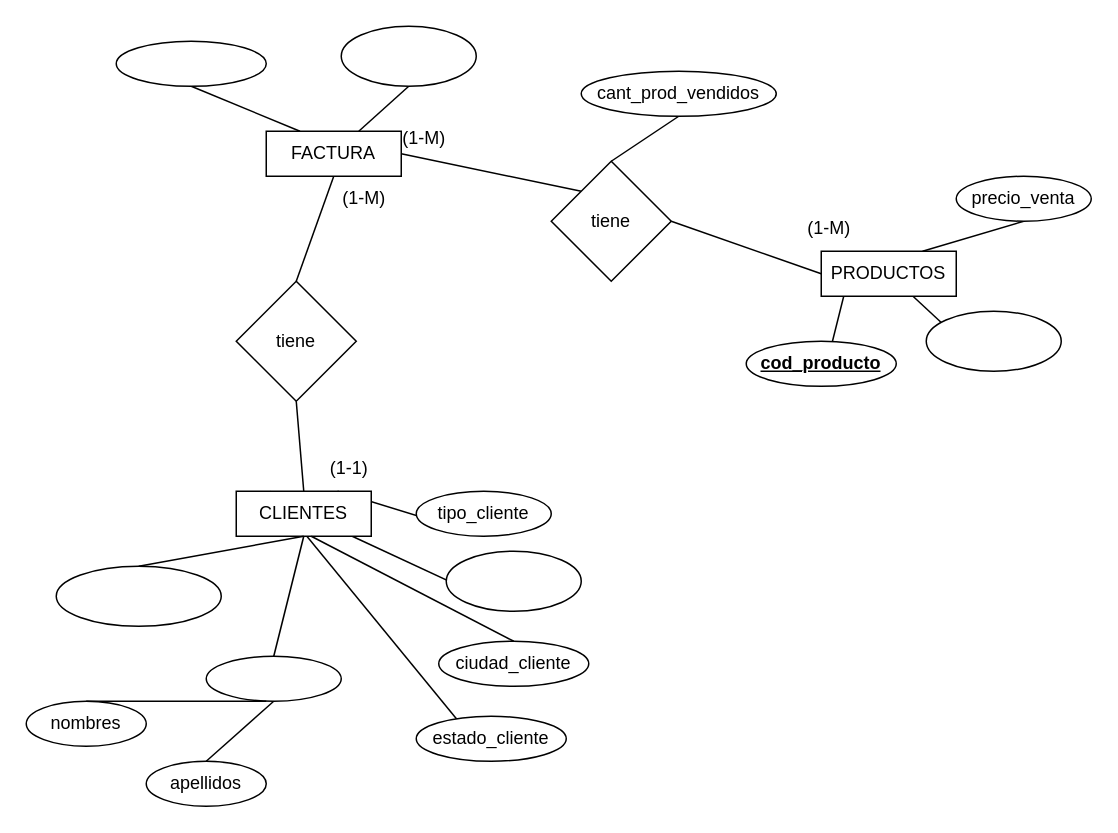
The diagram is 1118 pixels wide and 833 high, and some of its shapes have lost their labels. Each missing label, with the centre of its shape:
"fecha_factura" goes at (408,55).
"n_identificacion" goes at (138,595).
"nom_producto" goes at (993,340).
"nombre_cliente" goes at (273,678).
"num_factura" goes at (190,63).
"zona_cliente" goes at (513,580).
